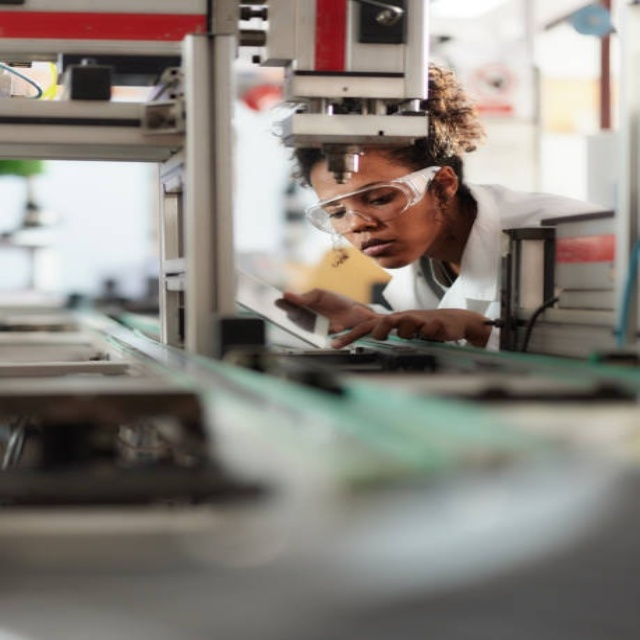Gafas: (304, 166, 443, 237)
Sin_guantes: (352, 307, 492, 349), (278, 288, 382, 342)
Sin_mascara: (353, 234, 411, 269)
